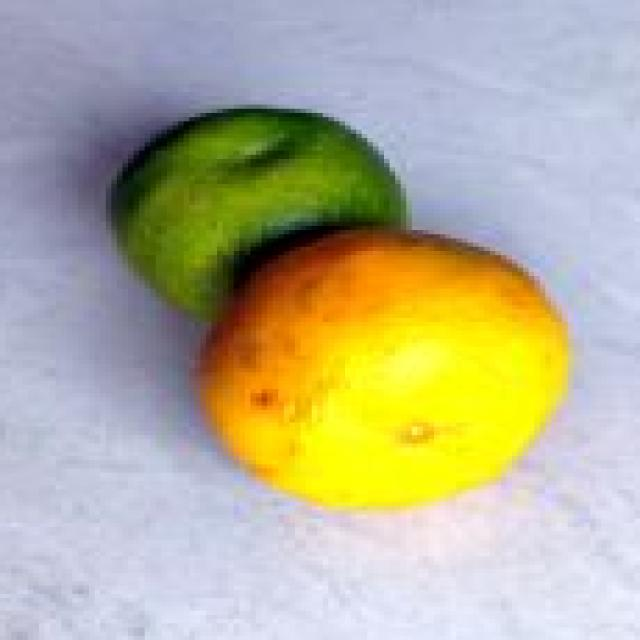Good_Orange-15-21 days: (106, 109, 579, 519)
